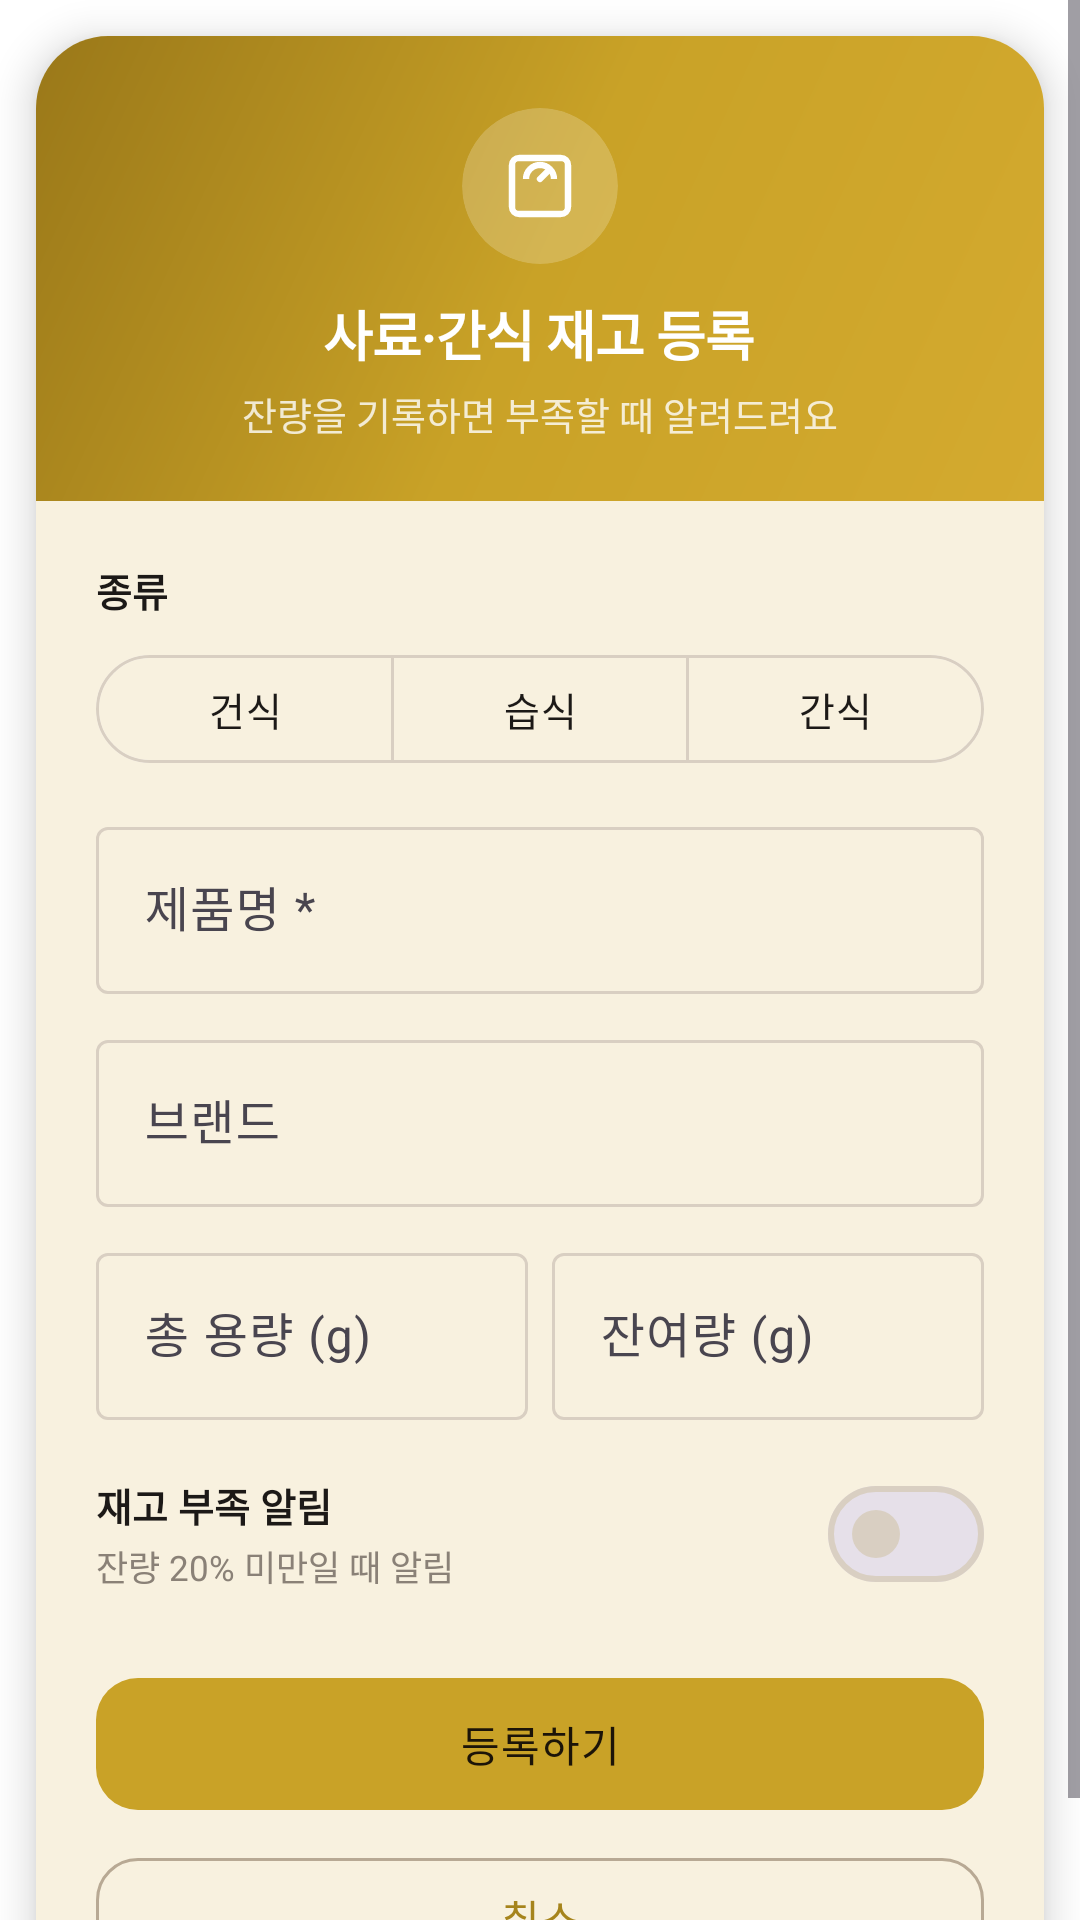

Icon click points for this 1080 x 1920 phone screenshot, format (x=x, y=y):
weight scale: (x=540, y=186)
